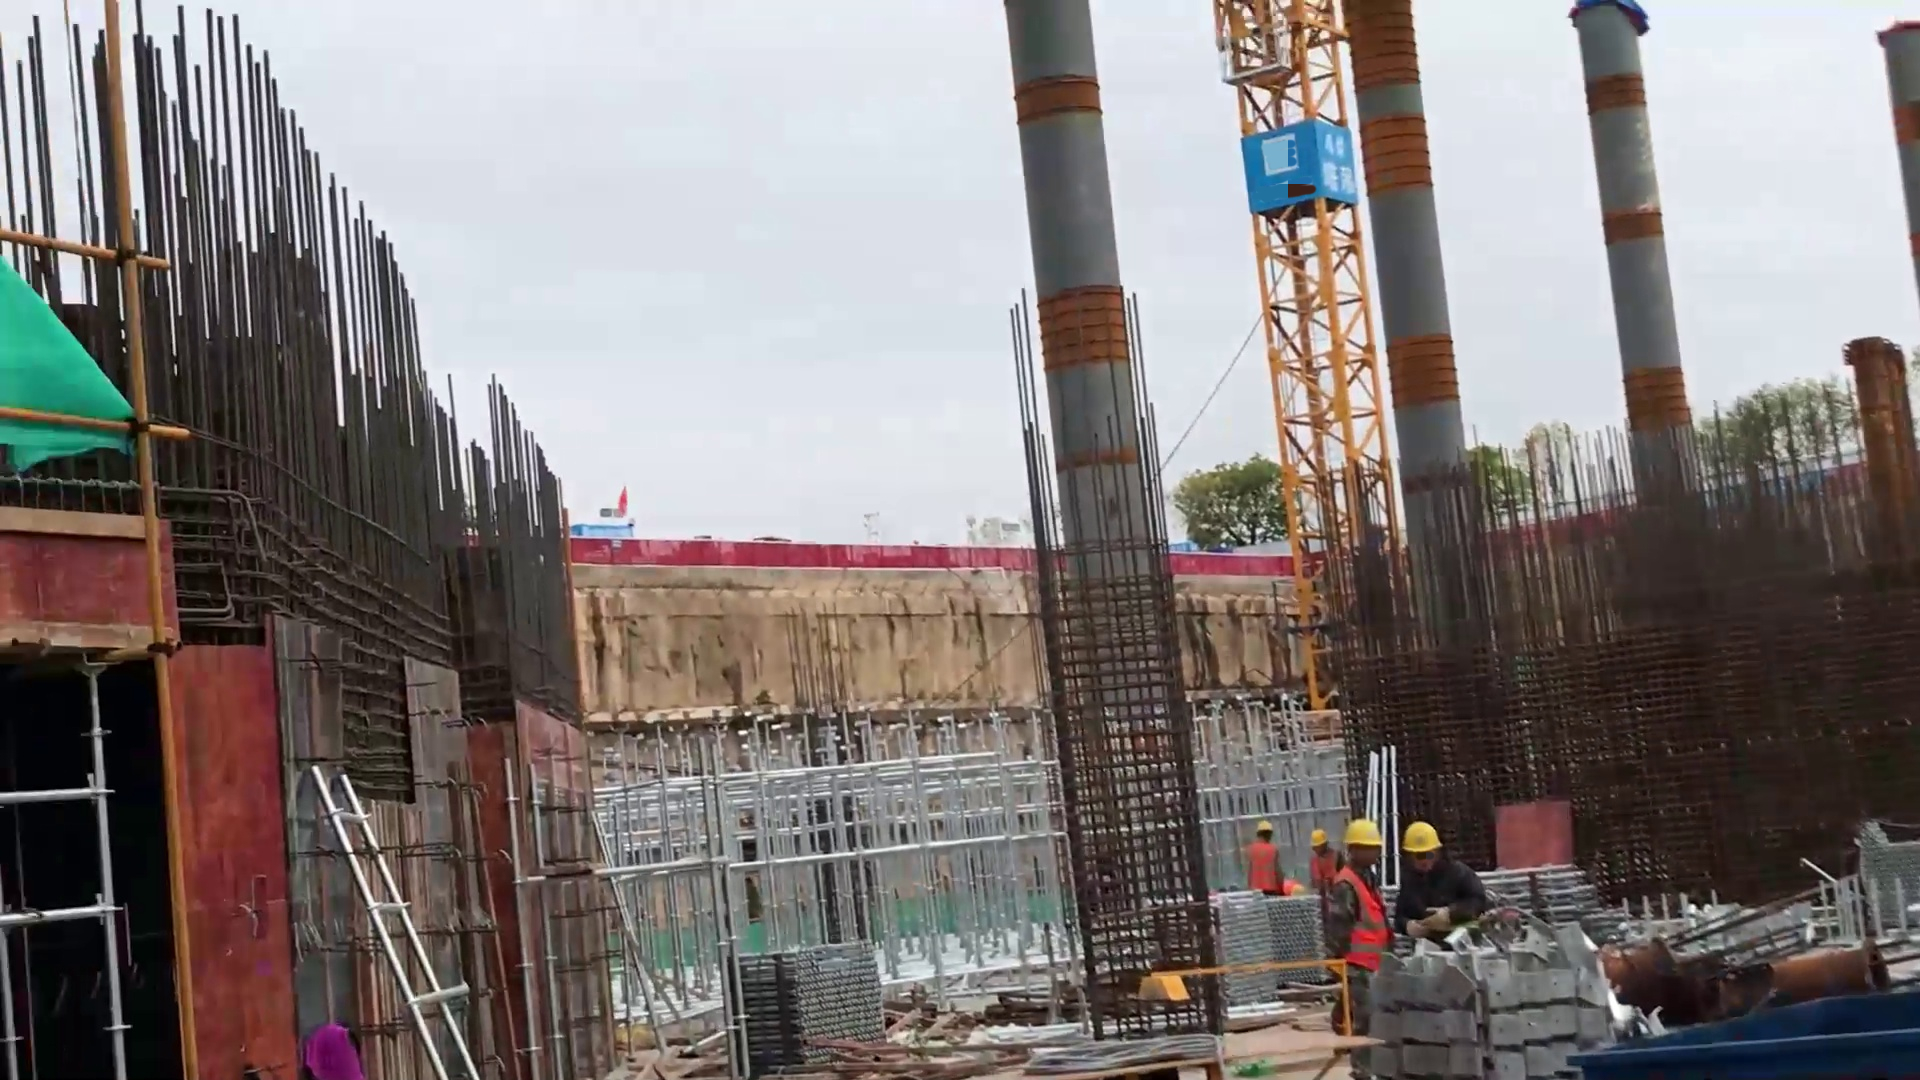helmet: (1339, 818, 1387, 850), (1400, 821, 1445, 852), (1253, 821, 1279, 835), (1307, 829, 1332, 843)
person: (1394, 814, 1497, 946), (1332, 814, 1392, 1035), (1246, 818, 1290, 900), (1301, 818, 1333, 896)
vest: (1334, 854, 1390, 975), (1247, 840, 1287, 893), (1307, 847, 1344, 896)
